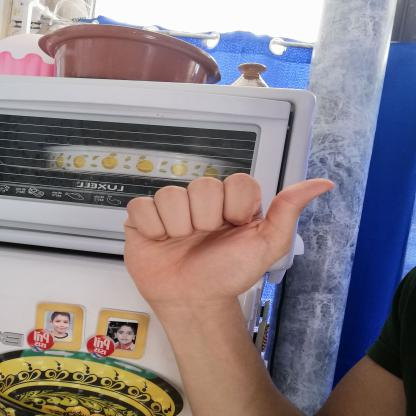DAD: (107, 163, 347, 322)
